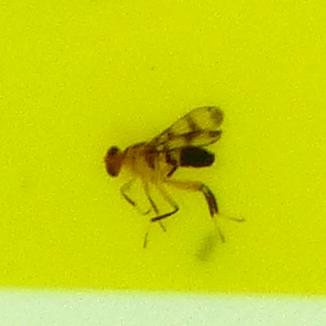Brachycera: (100, 100, 226, 226)
